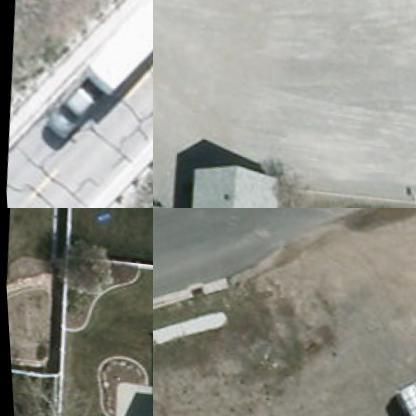camping car: (73, 0, 152, 107)
car: (40, 80, 93, 146), (380, 375, 415, 415)
